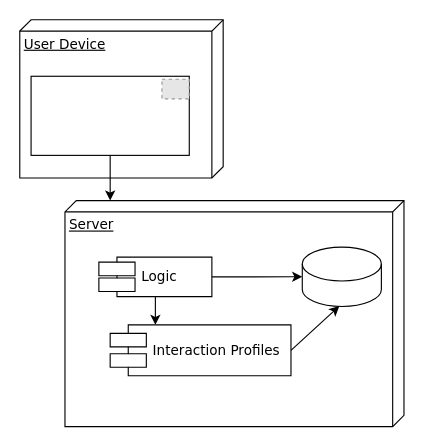
This 424x446 diagram has some shape labels left out. Grey dashed boxes stand in for pictures. The shapes that lost their labels are listed below. From the top down, each one's box as (x1, y1, x2, y2) in pixels, then its label:
(30, 75, 189, 155): User Interface
(301, 246, 381, 306): DB
